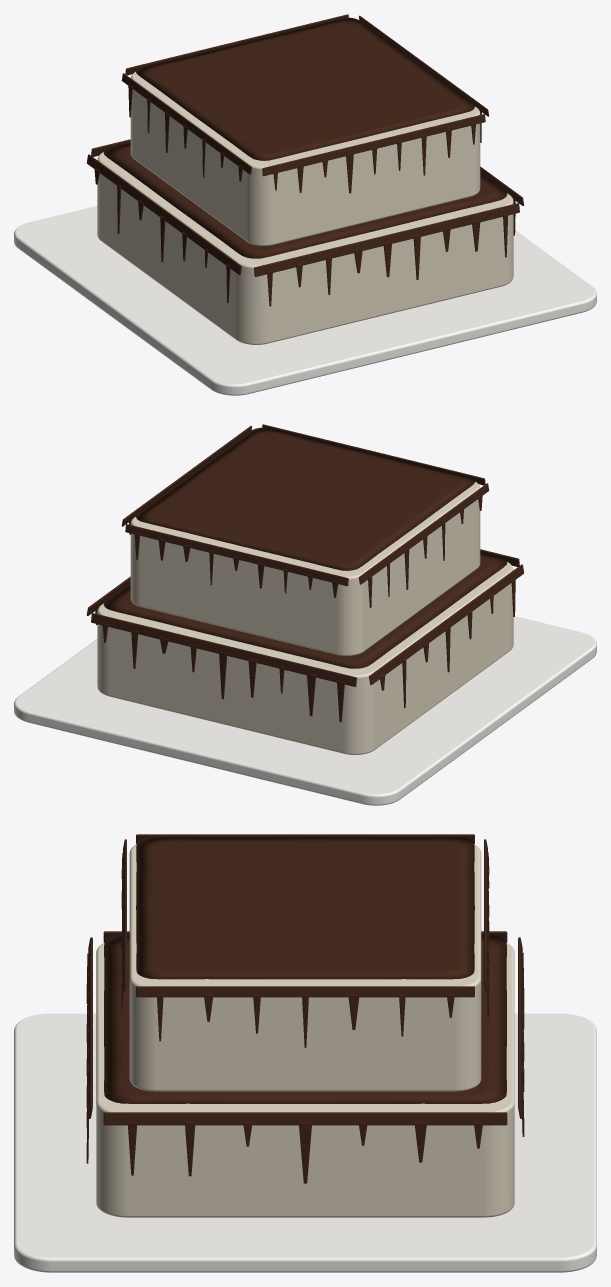
The model's file is square_2_tier.glb.
3 renders of one model, top to bottom at view 1: azimuth 30°, elevation 25°; view 2: azimuth 150°, elevation 25°; view 3: azimuth 270°, elevation 25°, orthographic. The views are drawn at different scales.
Parts seen in each view (by area): view 1: square_2_board, square_2_L1_body, square_2_L2_copied_circle_style_glossy_top_cap, square_2_L2_body, square_2_L1_copied_circle_style_glossy_top_cap, square_2_L1_copied_circle_style_front_thick_edge_band, square_2_L2_copied_circle_style_front_thick_edge_band, square_2_L1_copied_circle_style_left_thick_edge_band, square_2_L2_copied_circle_style_left_thick_edge_band, square_2_L2_copied_circle_style_right_thick_edge_band, square_2_L2_copied_circle_style_back_thick_edge_band; view 2: square_2_board, square_2_L1_body, square_2_L2_copied_circle_style_glossy_top_cap, square_2_L2_body, square_2_L1_copied_circle_style_glossy_top_cap, square_2_L1_copied_circle_style_back_thick_edge_band, square_2_L2_copied_circle_style_back_thick_edge_band, square_2_L1_copied_circle_style_left_thick_edge_band, square_2_L2_copied_circle_style_left_thick_edge_band, square_2_L2_copied_circle_style_right_thick_edge_band, square_2_L2_copied_circle_style_front_thick_edge_band; view 3: square_2_board, square_2_L2_copied_circle_style_glossy_top_cap, square_2_L1_body, square_2_L2_body, square_2_L1_copied_circle_style_glossy_top_cap, square_2_L1_copied_circle_style_right_thick_edge_band, square_2_L2_copied_circle_style_right_thick_edge_band, square_2_L2_copied_circle_style_left_thick_edge_band, square_2_L1_copied_circle_style_front_thick_edge_band, square_2_L1_copied_circle_style_back_thick_edge_band, square_2_L2_copied_circle_style_front_thick_edge_band, square_2_L2_copied_circle_style_back_thick_edge_band.
Part boxes in pixels (left/top/right/bottom): square_2_board: left=14, top=206, right=596, bottom=395; square_2_L1_body: left=97, top=152, right=513, bottom=344; square_2_L2_copied_circle_style_glossy_top_cap: left=136, top=17, right=474, bottom=160; square_2_L2_body: left=130, top=71, right=480, bottom=245; square_2_L1_copied_circle_style_glossy_top_cap: left=103, top=141, right=507, bottom=258; square_2_L1_copied_circle_style_front_thick_edge_band: left=254, top=203, right=519, bottom=276; square_2_L2_copied_circle_style_front_thick_edge_band: left=262, top=114, right=485, bottom=176; square_2_L1_copied_circle_style_left_thick_edge_band: left=87, top=154, right=241, bottom=275; square_2_L2_copied_circle_style_left_thick_edge_band: left=121, top=73, right=251, bottom=174; square_2_L2_copied_circle_style_right_thick_edge_band: left=359, top=15, right=489, bottom=116; square_2_L2_copied_circle_style_back_thick_edge_band: left=125, top=14, right=348, bottom=75; square_2_board: left=14, top=616, right=596, bottom=805; square_2_L1_body: left=97, top=562, right=513, bottom=754; square_2_L2_copied_circle_style_glossy_top_cap: left=136, top=427, right=474, bottom=570; square_2_L2_body: left=130, top=481, right=480, bottom=655; square_2_L1_copied_circle_style_glossy_top_cap: left=103, top=551, right=507, bottom=668; square_2_L1_copied_circle_style_back_thick_edge_band: left=91, top=613, right=356, bottom=686; square_2_L2_copied_circle_style_back_thick_edge_band: left=125, top=524, right=348, bottom=586; square_2_L1_copied_circle_style_left_thick_edge_band: left=369, top=564, right=523, bottom=685; square_2_L2_copied_circle_style_left_thick_edge_band: left=359, top=483, right=489, bottom=584; square_2_L2_copied_circle_style_right_thick_edge_band: left=121, top=425, right=251, bottom=526; square_2_L2_copied_circle_style_front_thick_edge_band: left=262, top=424, right=485, bottom=485; square_2_board: left=14, top=1013, right=596, bottom=1272; square_2_L2_copied_circle_style_glossy_top_cap: left=136, top=836, right=474, bottom=979; square_2_L1_body: left=96, top=942, right=514, bottom=1217; square_2_L2_body: left=129, top=844, right=481, bottom=1091; square_2_L1_copied_circle_style_glossy_top_cap: left=104, top=933, right=506, bottom=1103; square_2_L1_copied_circle_style_right_thick_edge_band: left=103, top=1112, right=507, bottom=1125; square_2_L2_copied_circle_style_right_thick_edge_band: left=136, top=986, right=474, bottom=997; square_2_L2_copied_circle_style_left_thick_edge_band: left=136, top=834, right=474, bottom=843; square_2_L1_copied_circle_style_front_thick_edge_band: left=88, top=937, right=92, bottom=1118; square_2_L1_copied_circle_style_back_thick_edge_band: left=518, top=937, right=522, bottom=1118; square_2_L2_copied_circle_style_front_thick_edge_band: left=123, top=839, right=126, bottom=991; square_2_L2_copied_circle_style_back_thick_edge_band: left=484, top=839, right=487, bottom=991.
Bounding box in the file's own units: 7.8 × 3.61 × 7.8.
